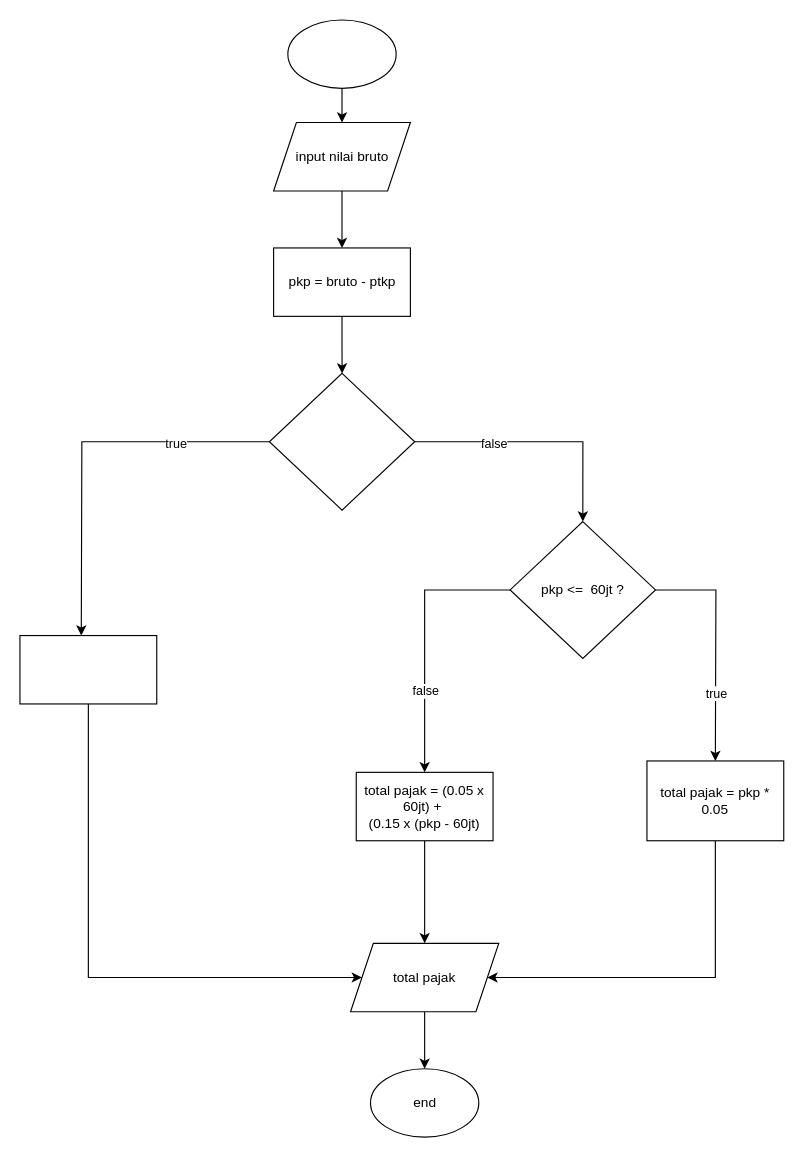
The diagram is 804 pixels wide and 1157 high, and some of its shapes have lost their labels. Here are the shapes that lost their labels. From the top down, the centre of each, then its label:
At (341,53): "start".
At (341,441): "pkp <= 0 ?".
At (88,669): "total pajak = pkp - 0".
